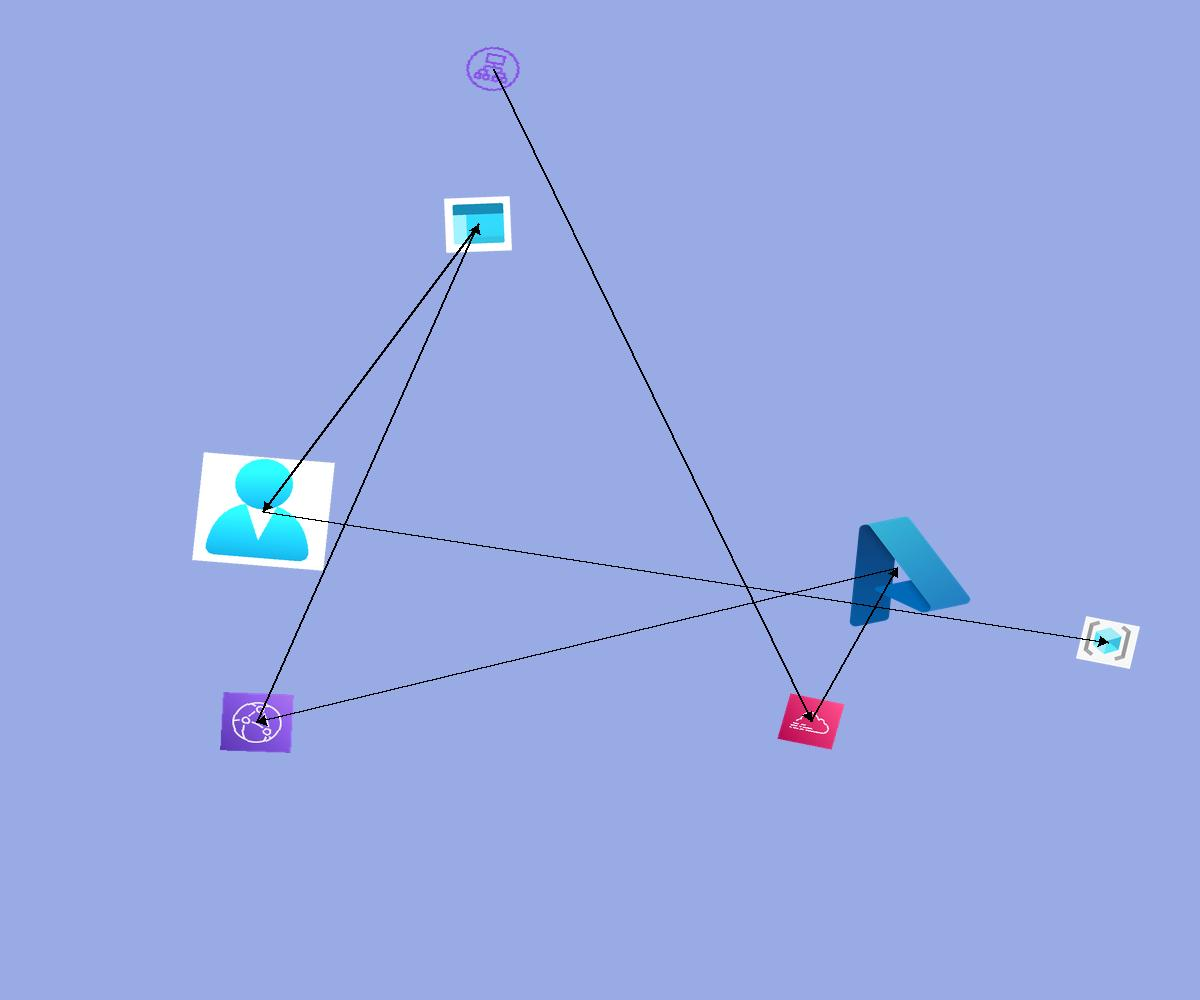AWS-CloudFront: (220, 692, 294, 753)
AWS-CloudTrail: (777, 693, 845, 750)
AWS-Res_Elastic-Load-Balancing_Application-Load-Balancer: (458, 40, 528, 98)
Azure_management-portal: (444, 196, 512, 253)
Azure_resource_group: (1076, 616, 1140, 669)
Azure_services: (816, 500, 979, 636)
Azure_users: (192, 452, 335, 571)
